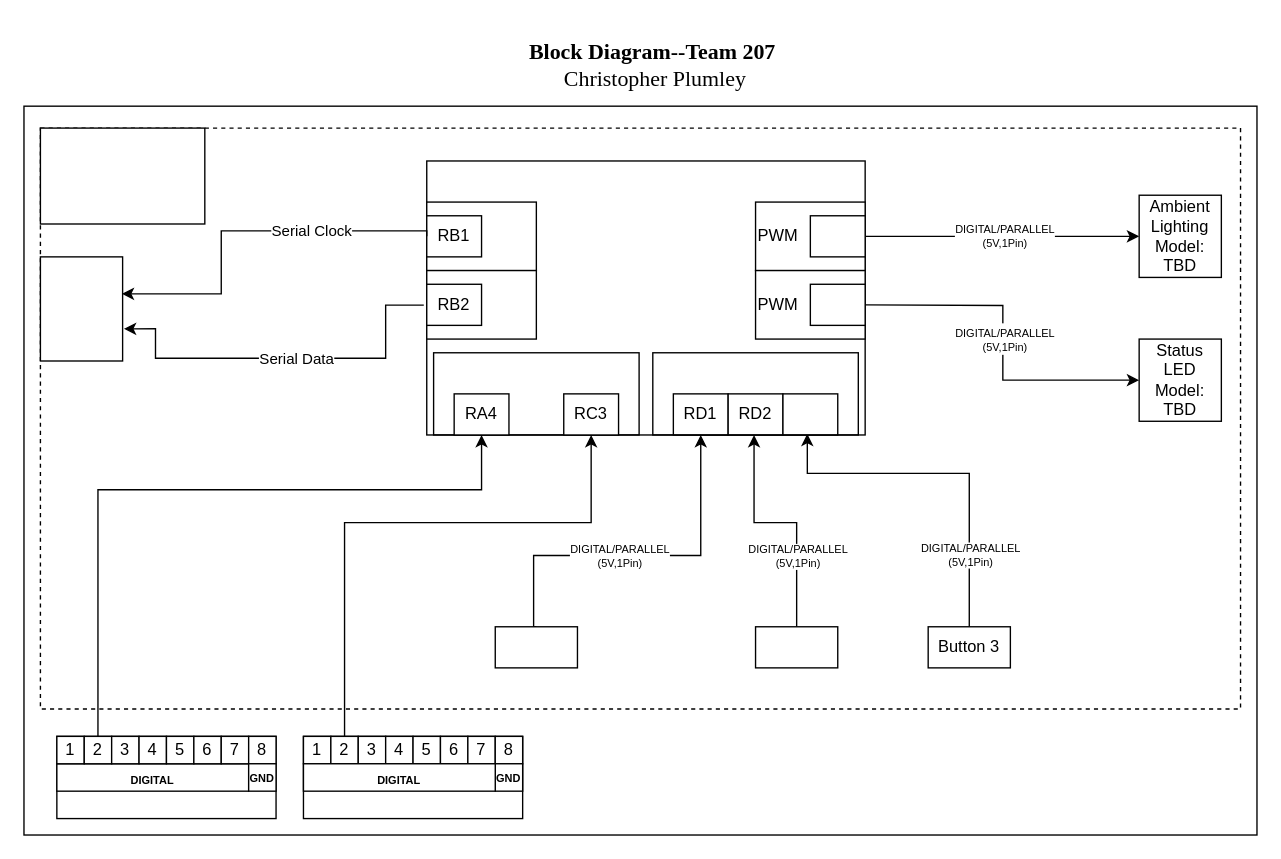
The diagram is 1281 pixels wide and 859 high, and some of its shapes have lost their labels. Here are the shapes that lost their labels. From the top down, the box of each, then its label:
(39, 127, 205, 224): 5V 1.5A Voltage Regulator Manufacturer Part TBD
(425, 201, 536, 271): SCA
(809, 214, 865, 257): RA3
(39, 256, 123, 361): oLED Screen Model: TBD
(425, 269, 536, 339): SCL
(425, 160, 865, 435): Microchip PIC18F57Q43 Curiosity Nano
(809, 283, 865, 325): RA1
(432, 351, 639, 435): UART
(651, 351, 858, 435): DI
(782, 393, 838, 435): RD3
(494, 625, 577, 668): Button 1
(754, 625, 838, 668): Button 2
(55, 735, 276, 819): CONNECTOR 1
(302, 735, 523, 819): CONNECTOR 2
